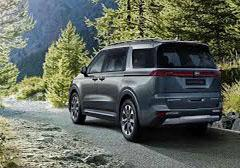car: (56, 32, 227, 154)
